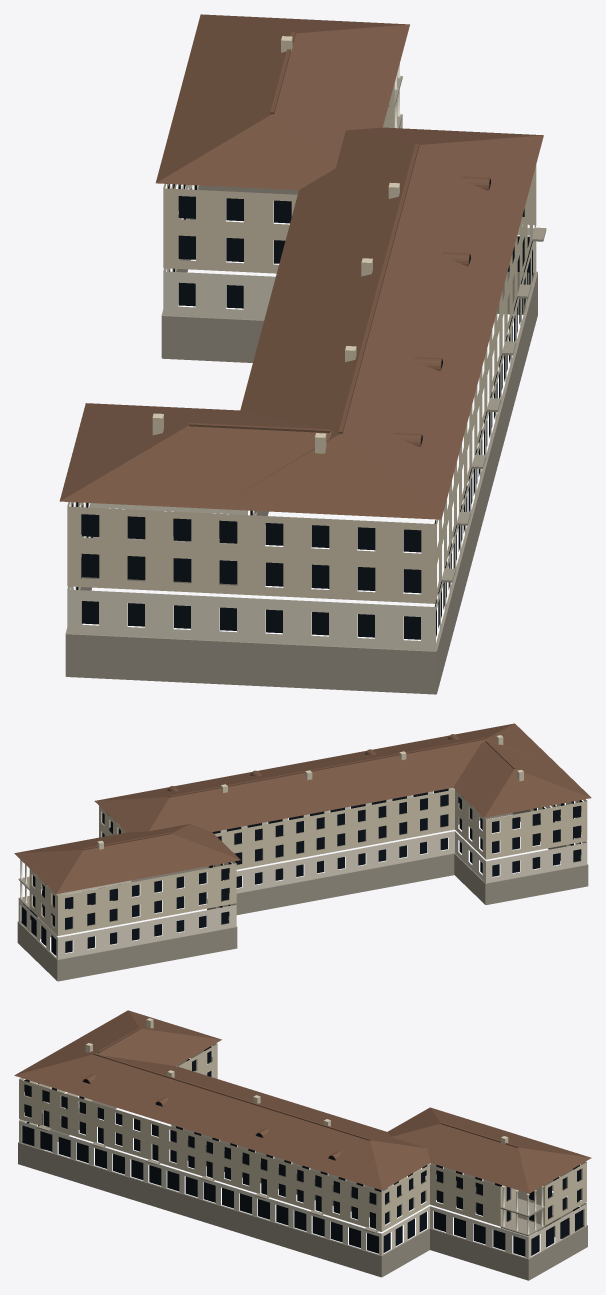
Rendered from gen_petrova2.lod.glb.
3 views of the same model, one above another, from view 1: azimuth 30°, elevation 25°; view 2: azimuth 150°, elevation 25°; view 3: azimuth 270°, elevation 25° (orthographic). The views are drawn at different scales.
Visible parts, largest first — view 1: gen_petrova2_roof, gen_petrova2_wall, gen_petrova2_stone, gen_petrova2_wall3, gen_petrova2_glass; view 2: gen_petrova2_roof, gen_petrova2_wall, gen_petrova2_stone, gen_petrova2_wall3, gen_petrova2_glass; view 3: gen_petrova2_roof, gen_petrova2_wall, gen_petrova2_stone, gen_petrova2_glass, gen_petrova2_wall3, gen_petrova2_trim_s.
Part boxes in pixels (left/top/right/bottom): gen_petrova2_roof: left=59, top=14, right=543, bottom=519; gen_petrova2_wall: left=67, top=36, right=536, bottom=603; gen_petrova2_stone: left=65, top=76, right=546, bottom=694; gen_petrova2_wall3: left=67, top=118, right=536, bottom=650; gen_petrova2_glass: left=72, top=179, right=532, bottom=639; gen_petrova2_roof: left=14, top=723, right=591, bottom=893; gen_petrova2_wall: left=29, top=735, right=587, bottom=935; gen_petrova2_stone: left=17, top=803, right=588, bottom=981; gen_petrova2_wall3: left=18, top=788, right=587, bottom=959; gen_petrova2_glass: left=21, top=788, right=582, bottom=955; gen_petrova2_roof: left=14, top=1010, right=591, bottom=1193; gen_petrova2_wall: left=19, top=1018, right=586, bottom=1231; gen_petrova2_stone: left=18, top=1100, right=587, bottom=1280; gen_petrova2_glass: left=22, top=1046, right=583, bottom=1256; gen_petrova2_wall3: left=19, top=1092, right=586, bottom=1258; gen_petrova2_trim_s: left=502, top=1186, right=543, bottom=1234.
Size of the model in its own units: 62.58 by 17.3 by 83.32.
